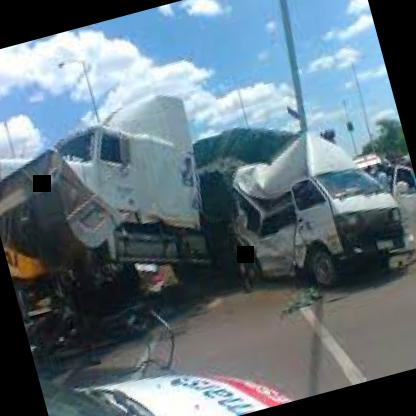accident: (11, 27, 416, 368)
